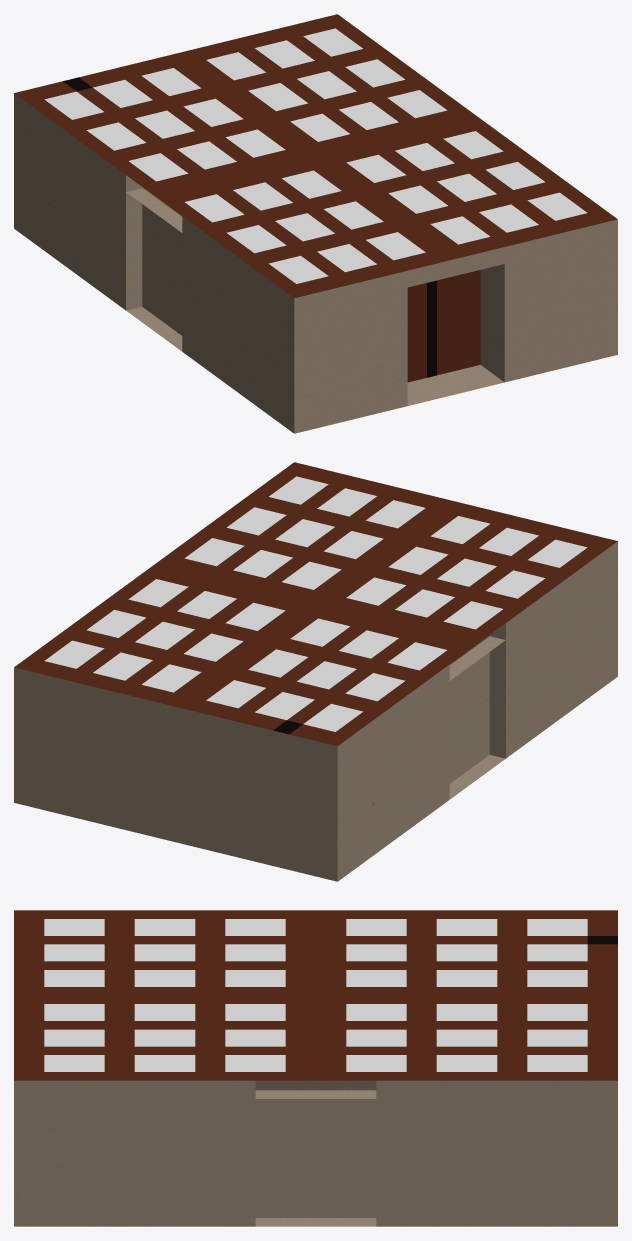
Rendered from Wood1.glb.
3 renders of one model, top to bottom at view 1: azimuth 30°, elevation 25°; view 2: azimuth 150°, elevation 25°; view 3: azimuth 270°, elevation 25°, orthographic. The views are drawn at different scales.
Visible parts, largest first — view 1: Grid; view 2: Grid; view 3: Grid.
Boxes of the visible parts, bbox=[...] form: Grid: bbox=[14, 14, 617, 433]; Grid: bbox=[14, 462, 617, 881]; Grid: bbox=[14, 910, 617, 1226].
Bounding box in the file's own units: 10 × 4 × 15.
4 materials, 1 textured.
